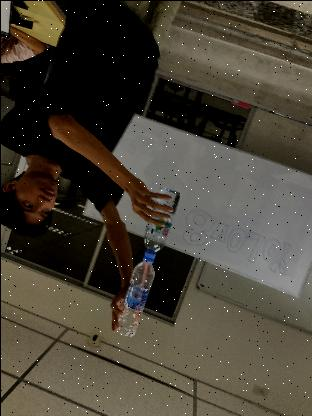Plastic Bottle: (116, 257, 154, 337), (141, 186, 178, 258)
